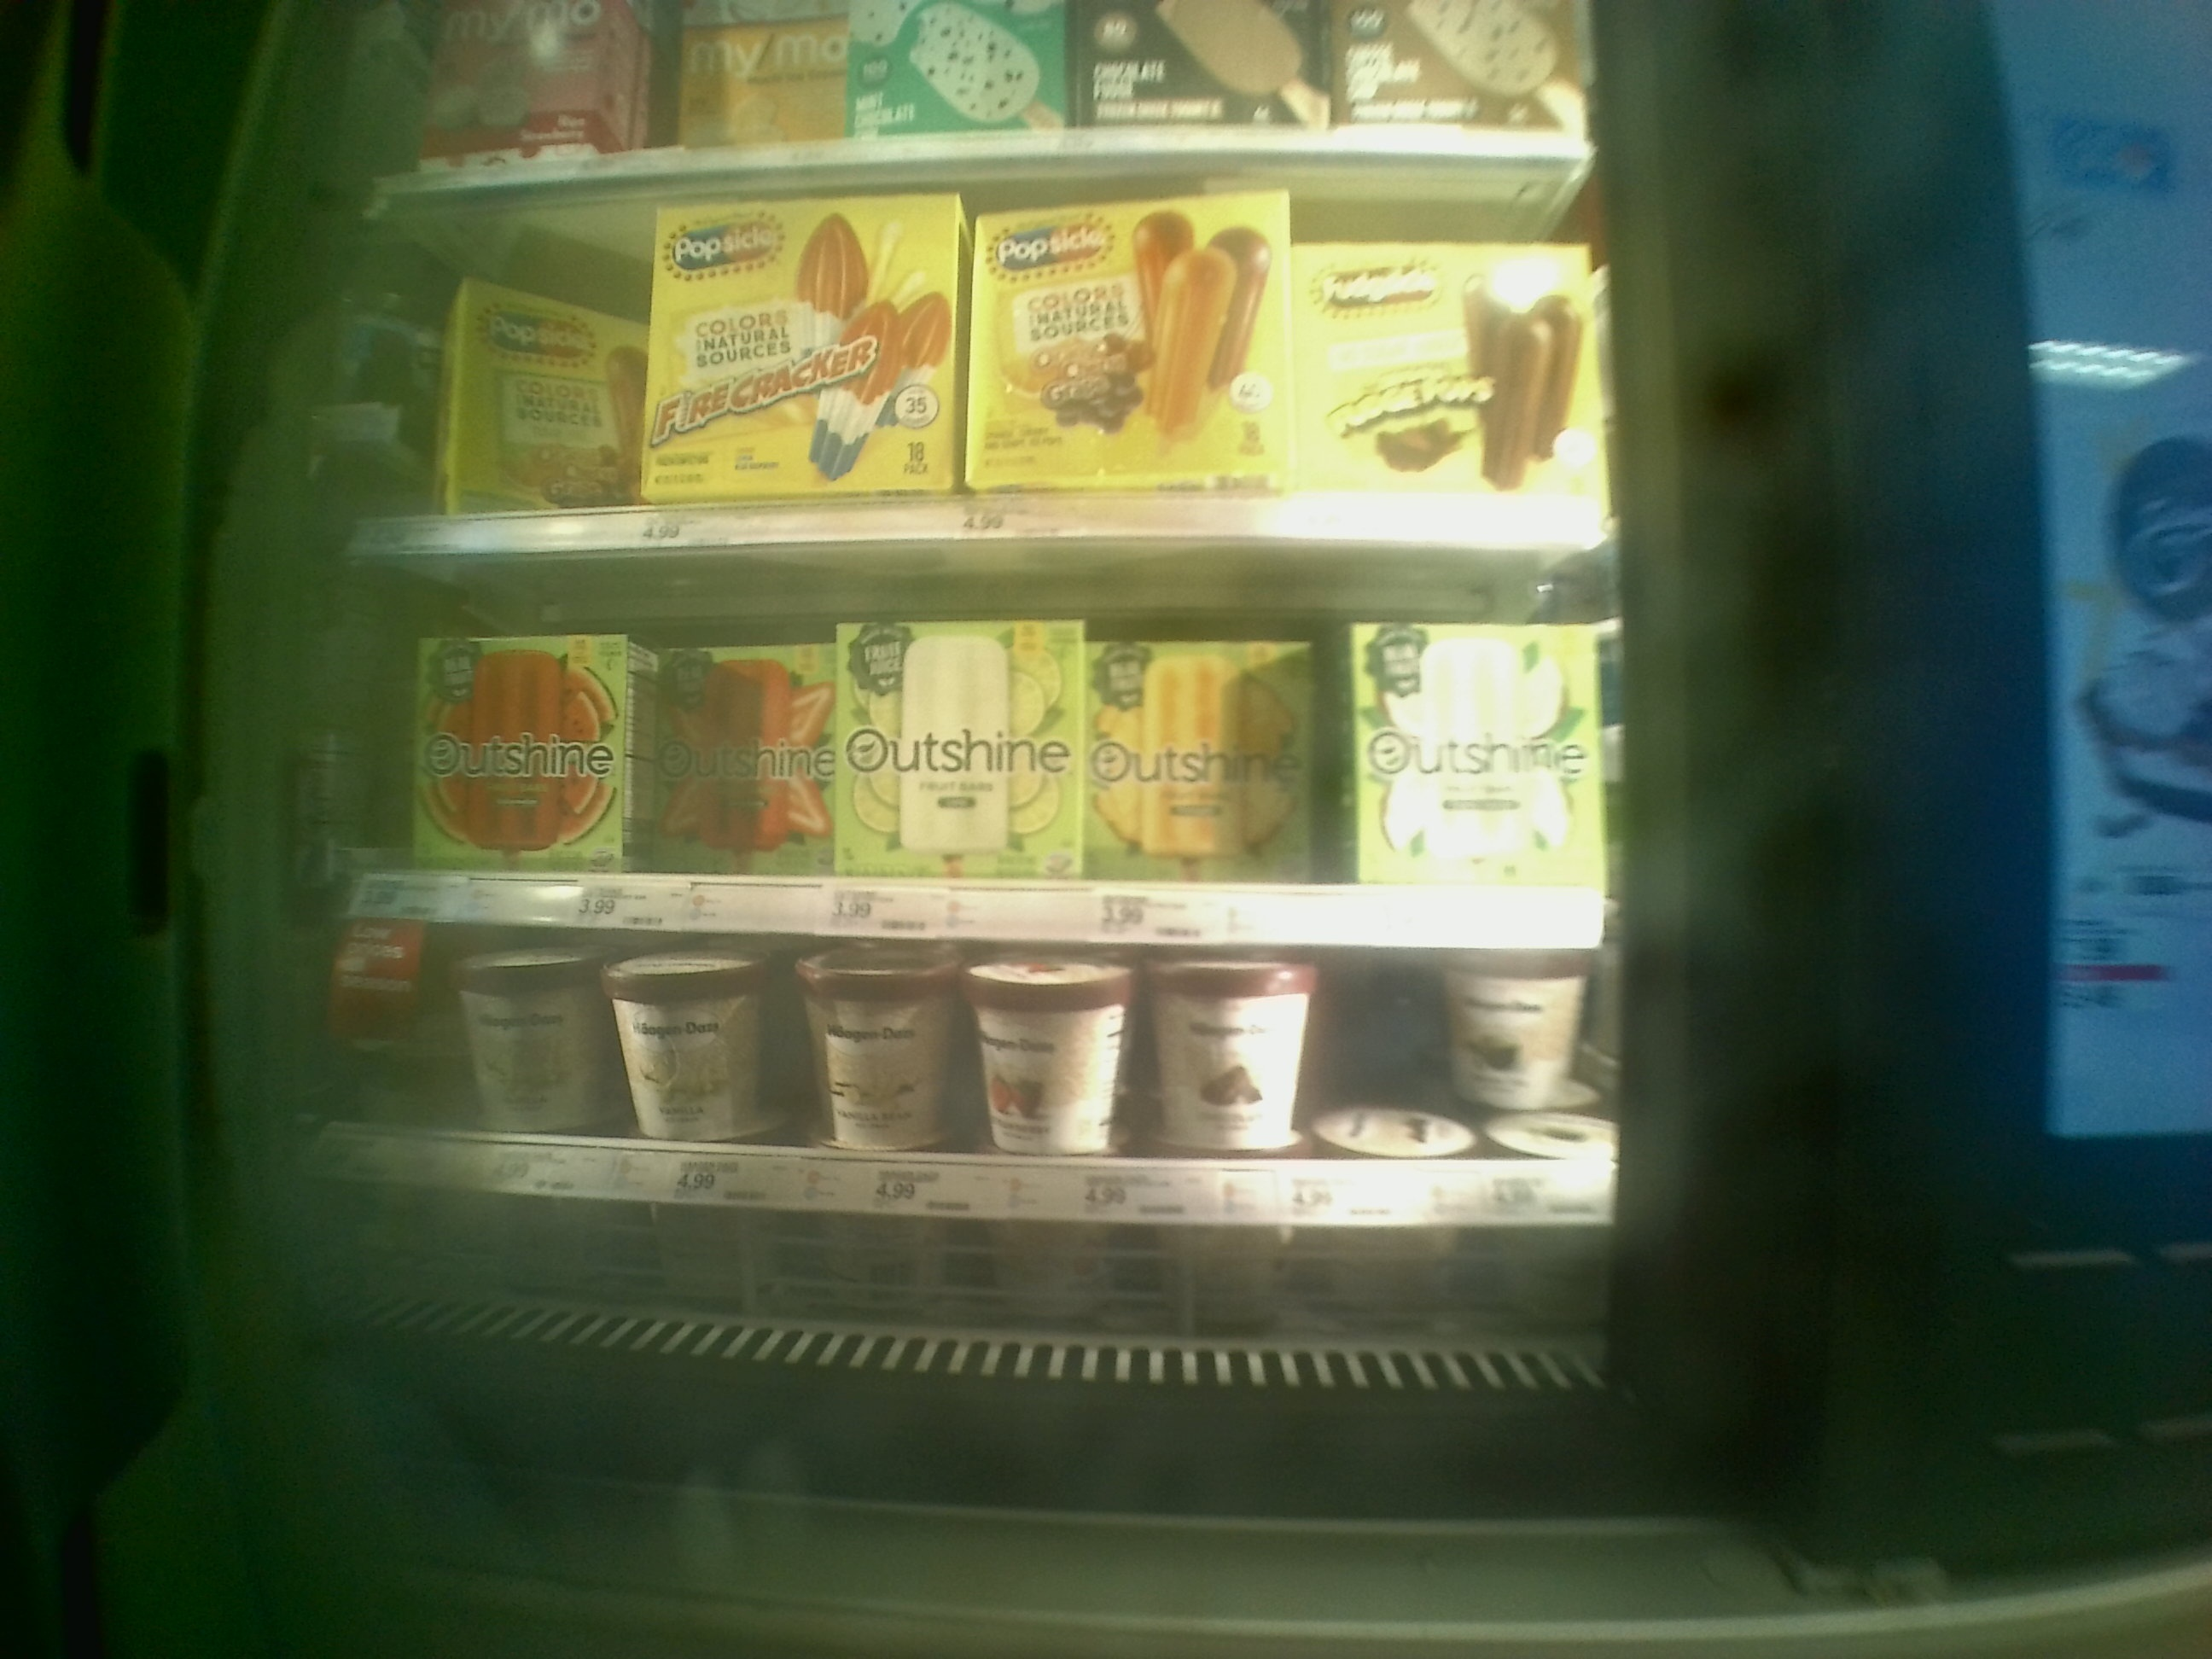ice-cream-shelf: (341, 558, 1627, 932), (350, 181, 1611, 556), (341, 932, 1618, 1230)
